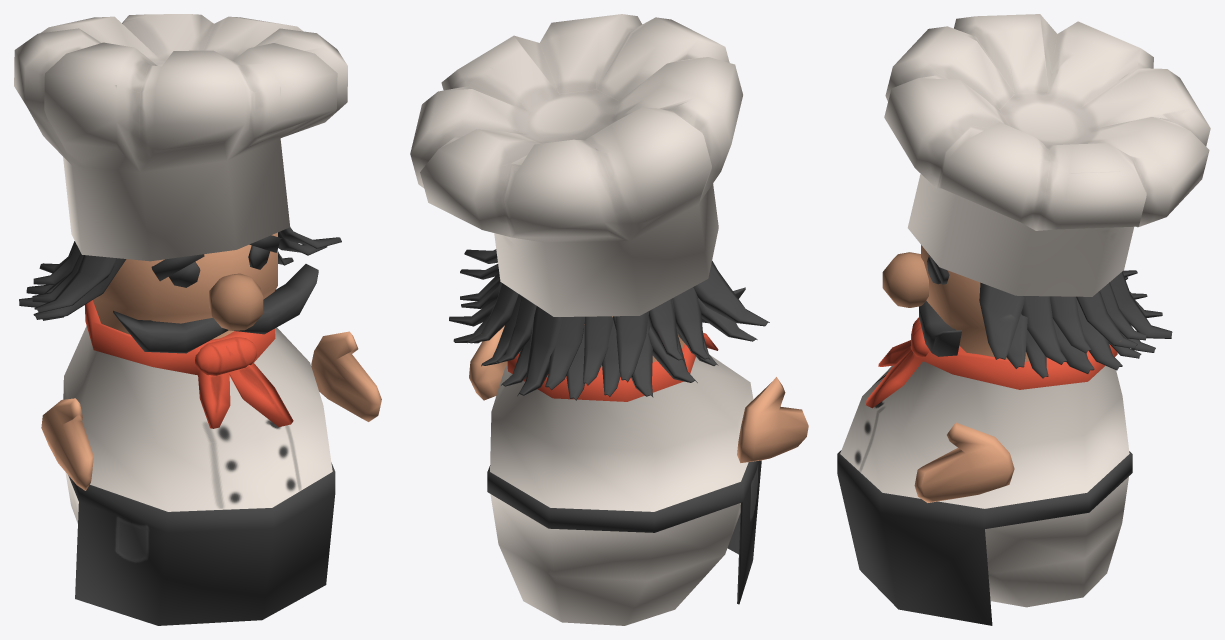
Rendered from Char.fbx.
3 renders of one model, left to right at view 1: azimuth 30°, elevation 25°; view 2: azimuth 150°, elevation 25°; view 3: azimuth 270°, elevation 25°, orthographic. The views are drawn at different scales.
Parts seen in each view (by area): view 1: Baker.001; view 2: Baker.001; view 3: Baker.001.
Boxes of the visible parts, x1,y1,x2,y2 form: Baker.001: (14, 14, 381, 625); Baker.001: (410, 14, 808, 625); Baker.001: (837, 14, 1210, 625).
Size of the model in its own units: 123 by 207 by 131.
